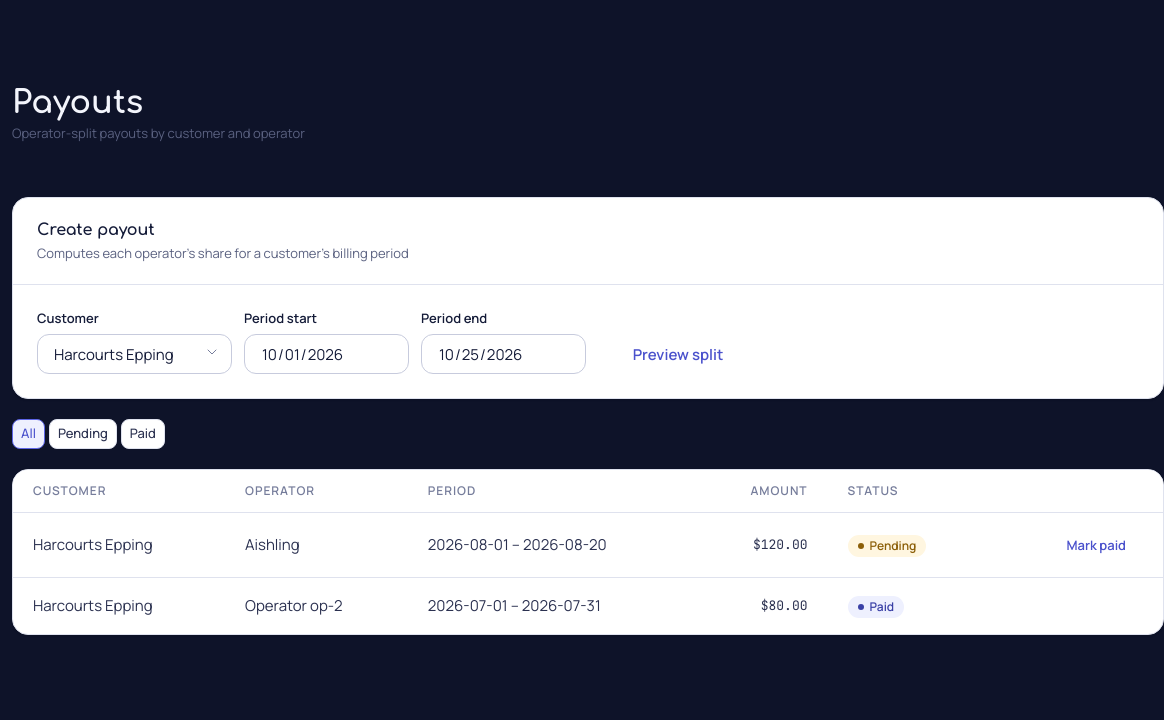
Test: Administrator Payouts page › filters the payout list by status
Expected: the text "$120.00" is shown, [699,513,828,578]
Click the button "Paid": (143, 434) [121,420,165,449]
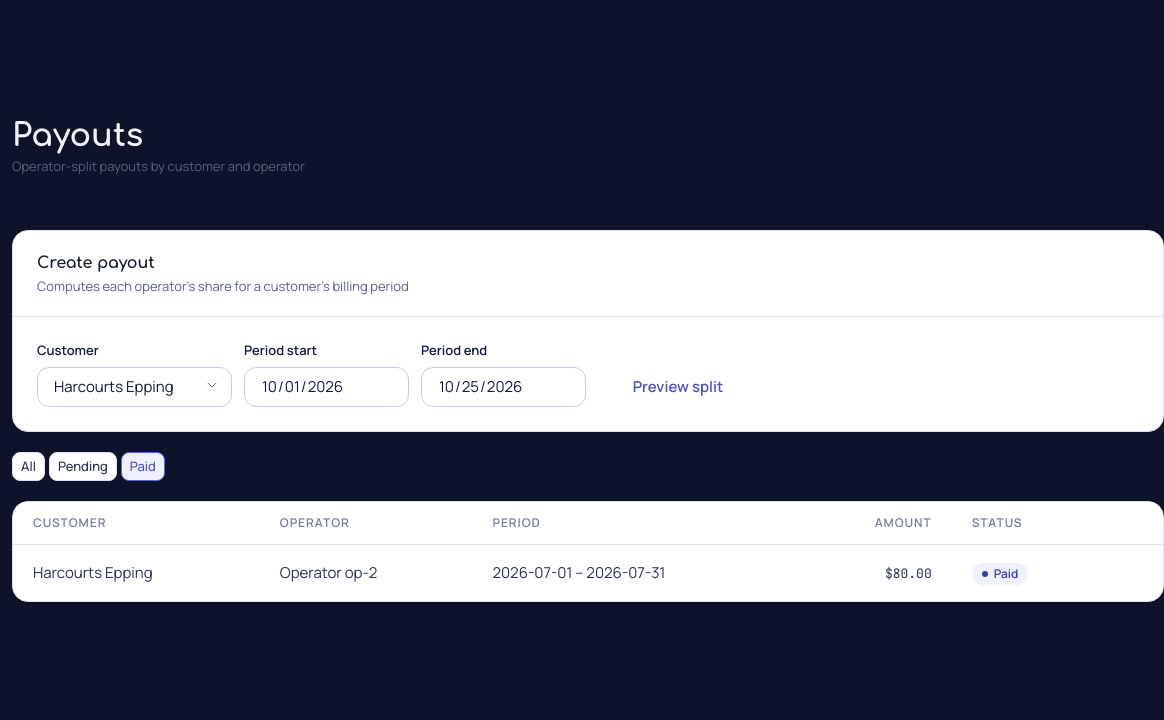
Expected: the text "$80.00" is shown, [802,546,952,602]
Result: the text "$120.00" is gone
